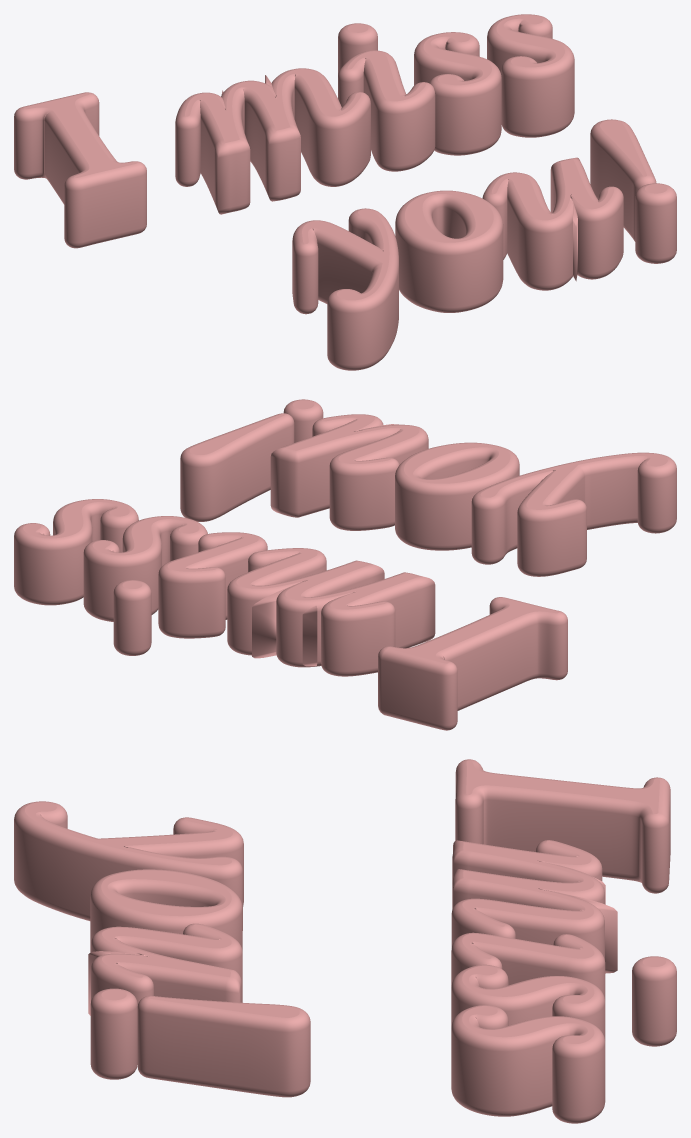
Rendered from asset.glb.
3 views of the same model, one above another, from view 1: azimuth 30°, elevation 25°; view 2: azimuth 150°, elevation 25°; view 3: azimuth 270°, elevation 25° (orthographic). The views are drawn at different scales.
Visible parts, largest first — view 1: Text; view 2: Text; view 3: Text.
Part boxes in pixels (bbox=[...]): Text: bbox=[14, 14, 676, 370]; Text: bbox=[14, 399, 676, 730]; Text: bbox=[14, 759, 676, 1123].
Bounding box in the file's own units: 1.92 × 0.24 × 1.84.
